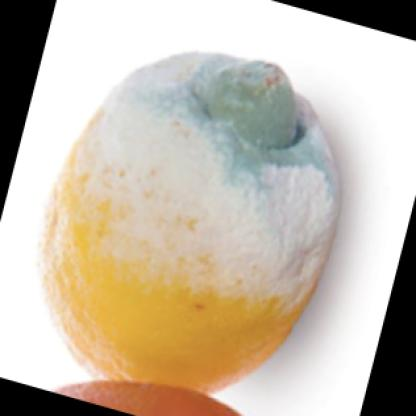rotten: (44, 51, 341, 392)
